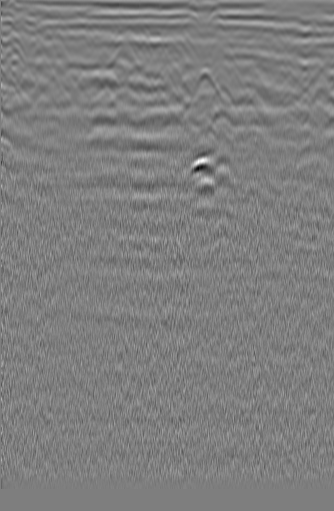가스: (185, 152, 219, 186)
상수: (292, 46, 326, 71)
오수: (3, 43, 31, 66)
우수: (149, 37, 183, 68)
